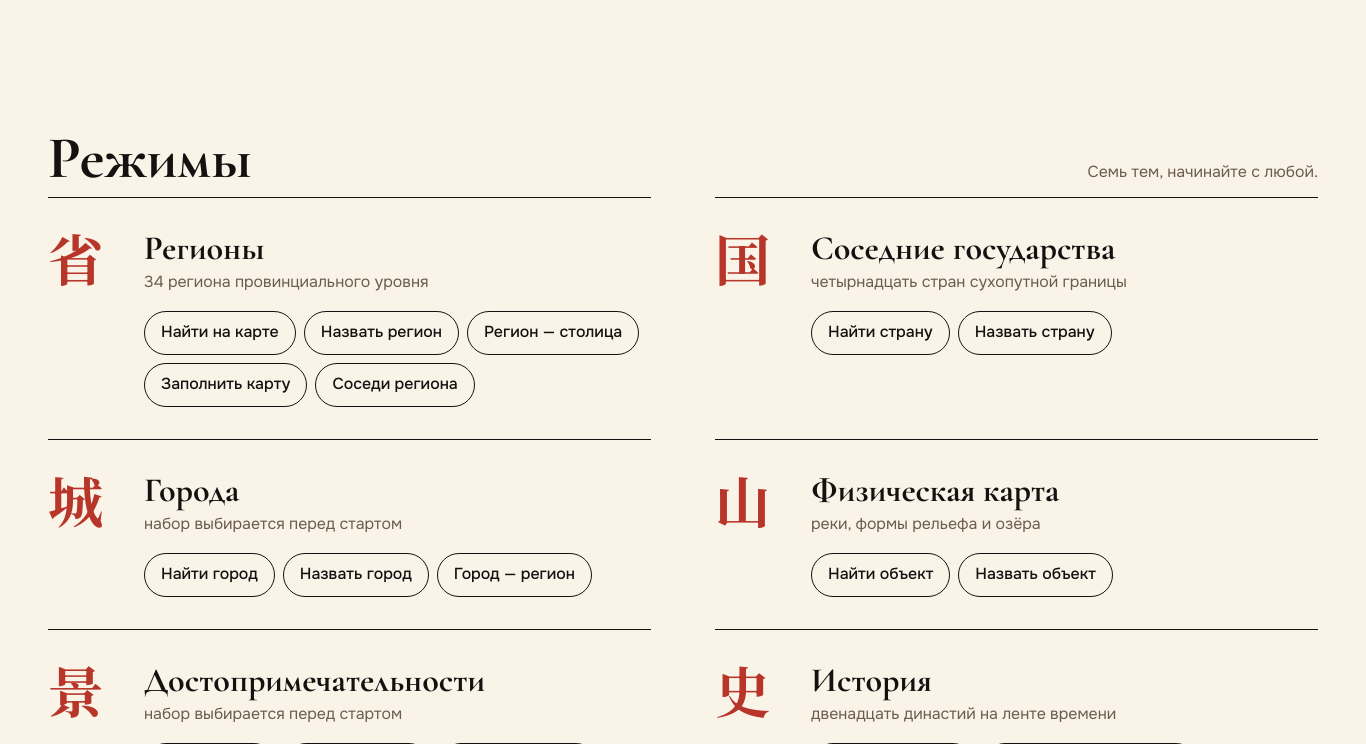
Test: окно называет игру, в которую попадёшь
This screenshot has width=1366, height=744.
(page scrolled)
Click the button "Заполнить карту" at (226, 385), box x1=144 y1=363 x2=307 y2=407
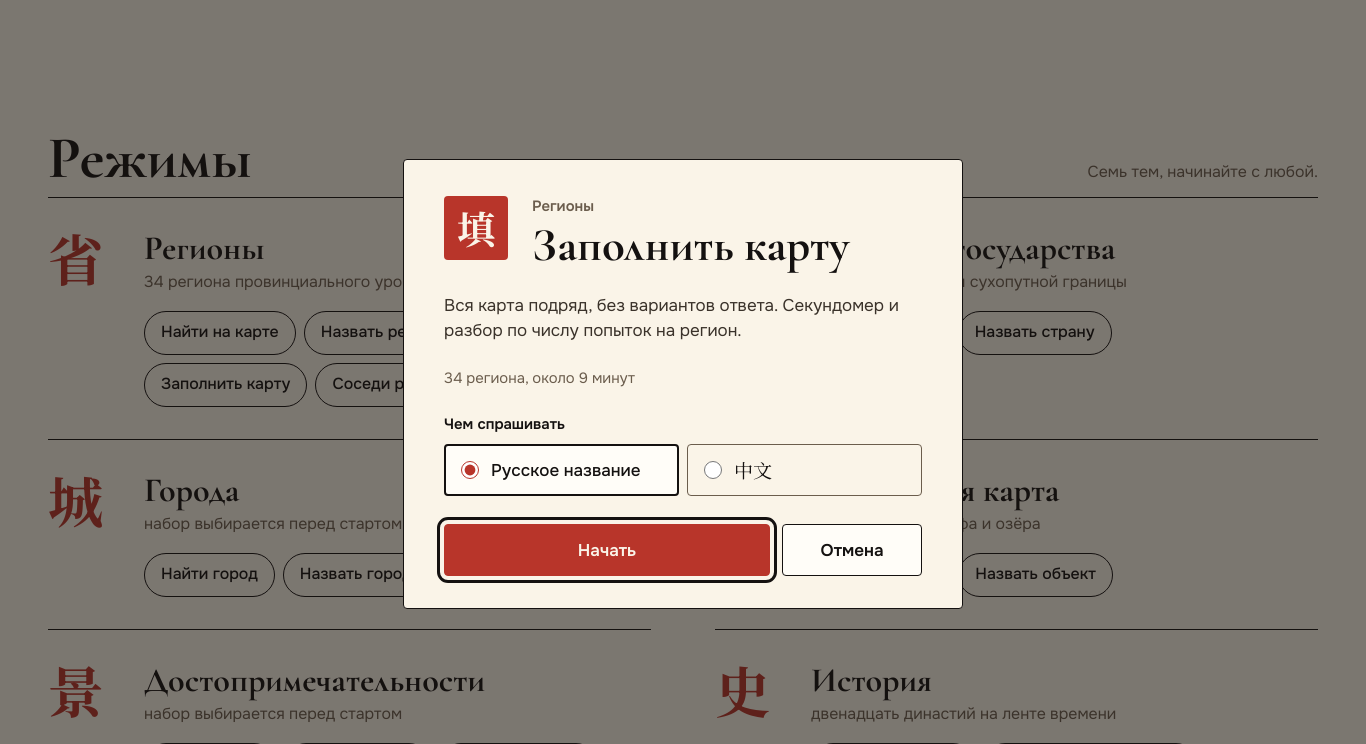
Result: the heading "Заполнить карту" is shown at x1=532 y1=222 x2=850 y2=269
